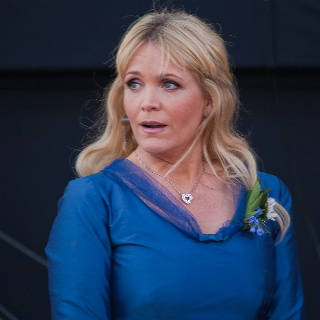without_mask: (121, 41, 206, 151)
